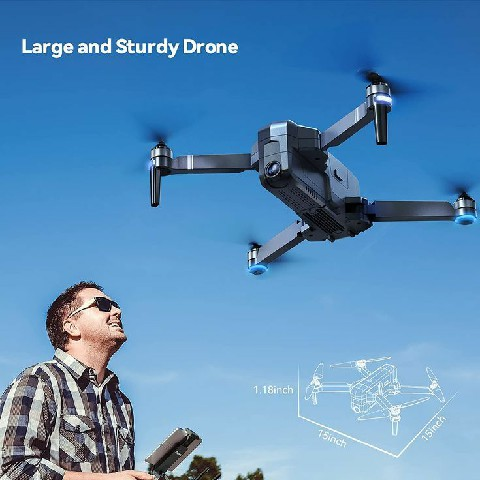maybay_khongnguoilai: (115, 56, 476, 267)
